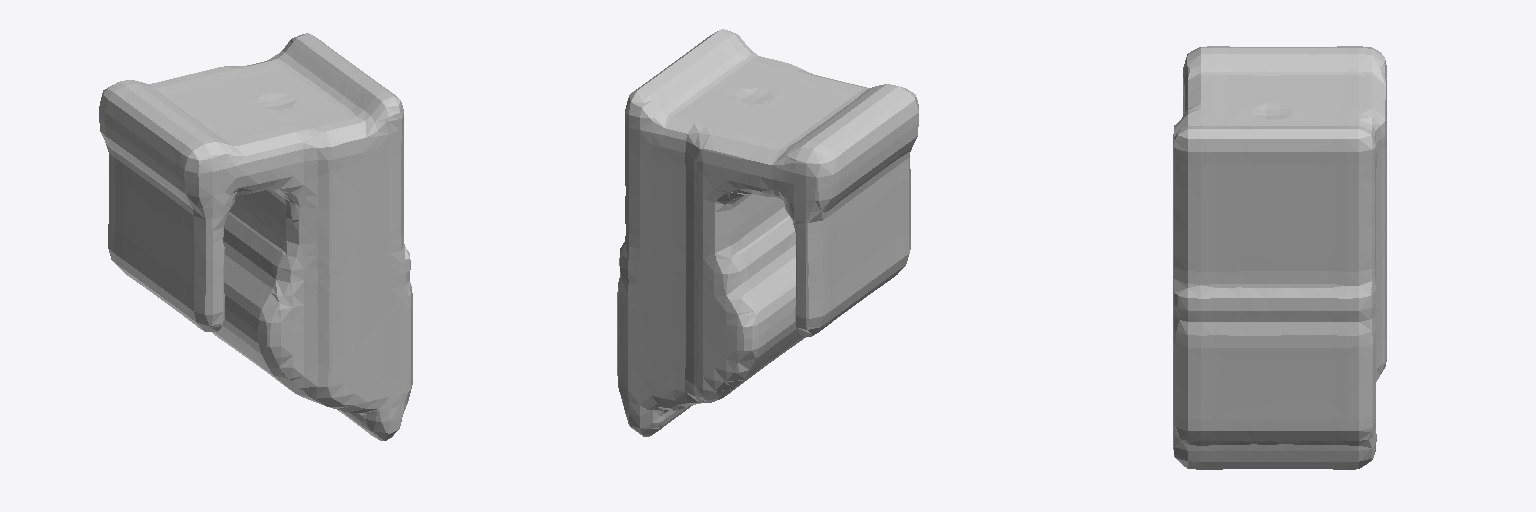
Rendered from profile.obj.
3 renders of one model, left to right at view 1: azimuth 30°, elevation 25°; view 2: azimuth 150°, elevation 25°; view 3: azimuth 270°, elevation 25°, orthographic.
Size of the model in its own units: 1.17 by 1.72 by 0.973.